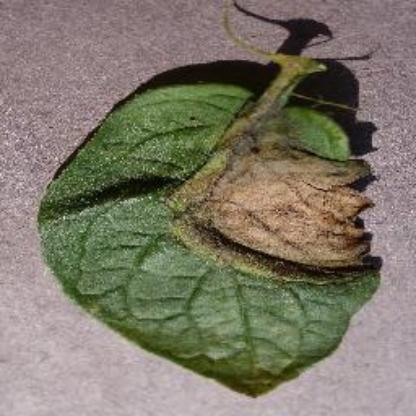Late-Blight: (29, 38, 396, 404)
